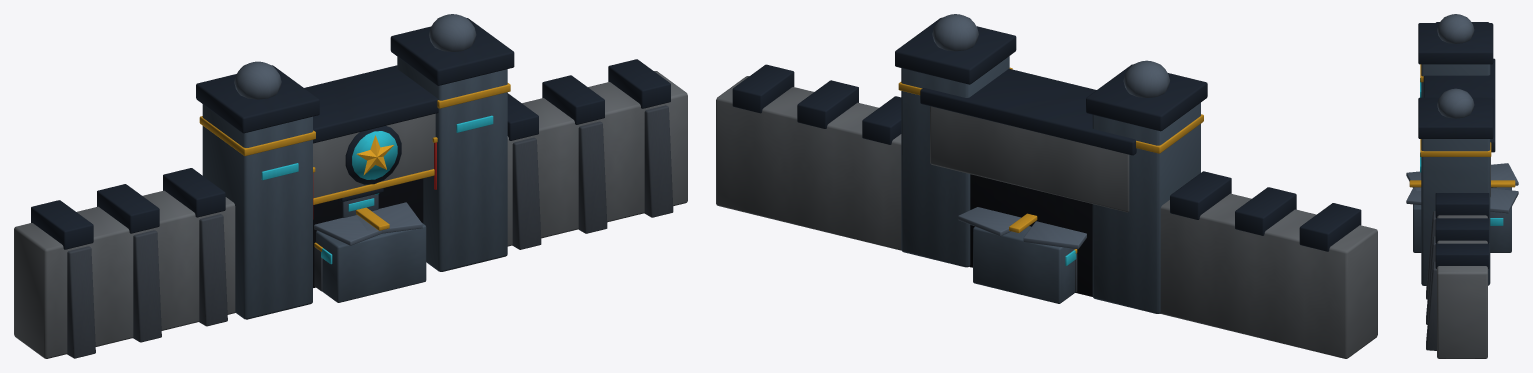
Rendered from env_military_pack.glb.
The picture shows the model from 3 angles, left to right: view 1: azimuth 30°, elevation 25°; view 2: azimuth 150°, elevation 25°; view 3: azimuth 270°, elevation 25°; orthographic projection. The views are drawn at different scales.
Visible parts, largest first — view 1: BunkerGate, ArmoredHangar, Watchtower; view 2: BunkerGate, ArmoredHangar; view 3: BunkerGate, ArmoredHangar.
Boxes of the visible parts, x1,y1,x2,y2 form: BunkerGate: (14,14,687,358); ArmoredHangar: (314,202,426,302); Watchtower: (339,188,383,217); BunkerGate: (716,14,1377,358); ArmoredHangar: (958,207,1086,303); BunkerGate: (1418,14,1495,358); ArmoredHangar: (1406,163,1518,252).
Bounding box in the file's own units: 39 × 13.56 × 7.49.
Materials: 1 (1 with a texture image).
